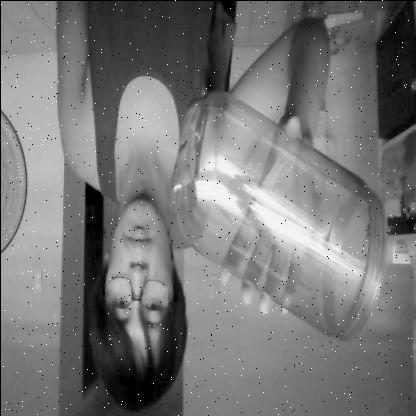Plastic Bottle: (165, 74, 389, 344)
